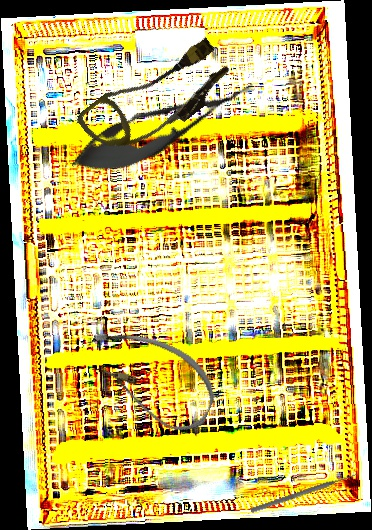Cannula: (74, 23, 239, 174), (72, 316, 227, 441)
Micro Scissor: (63, 64, 264, 190)
Pusher: (249, 470, 360, 515)
